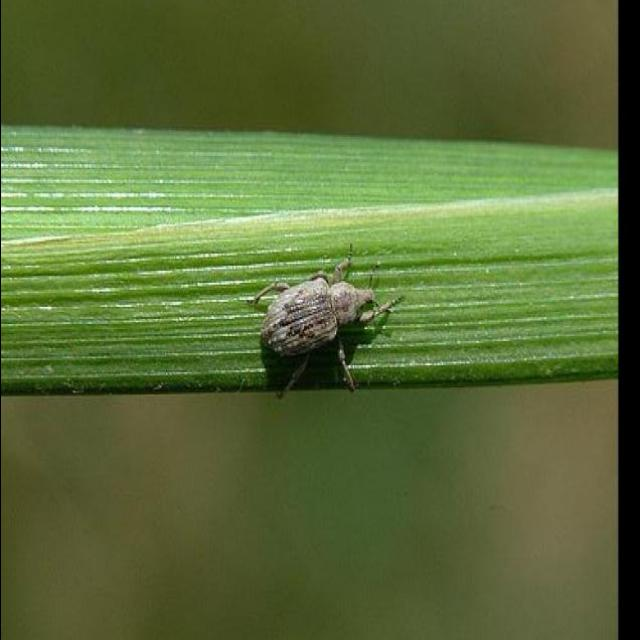ricebug: (256, 261, 393, 357)
